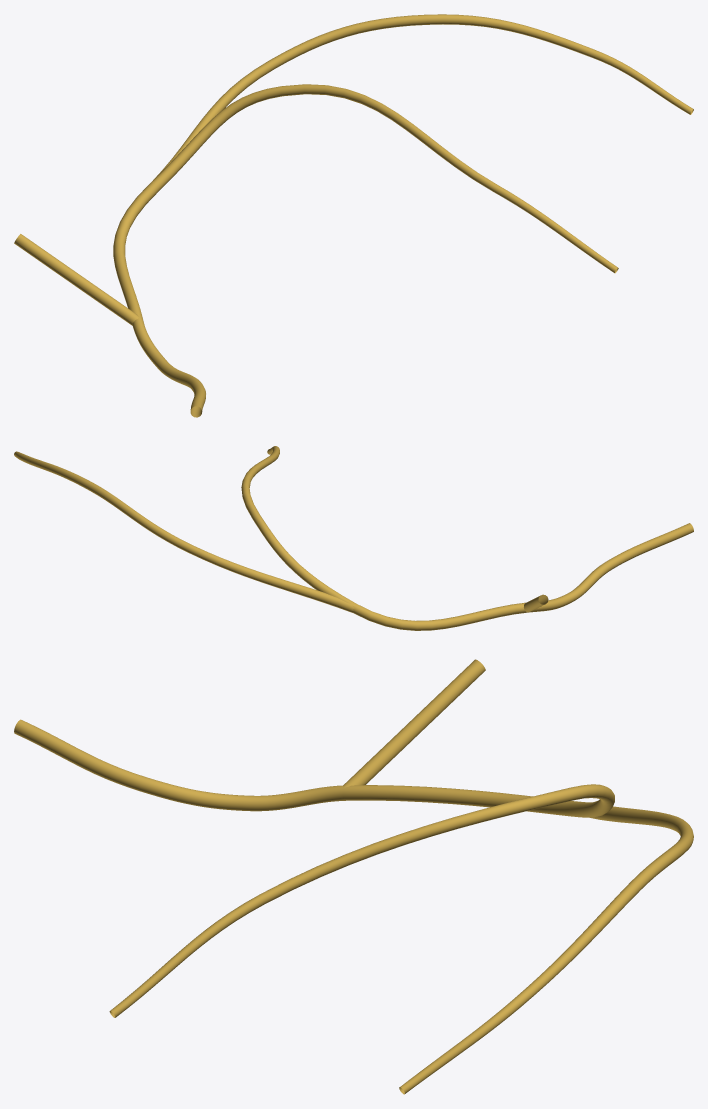
3 views of the same model, one above another, from view 1: azimuth 30°, elevation 25°; view 2: azimuth 150°, elevation 25°; view 3: azimuth 270°, elevation 25° (orthographic). The views are drawn at different scales.
Visible parts, largest first — view 1: 左侧臀上神经; view 2: 左侧臀上神经; view 3: 左侧臀上神经.
Boxes of the visible parts, bbox=[...] form: 左侧臀上神经: bbox=[14, 14, 693, 417]; 左侧臀上神经: bbox=[14, 446, 693, 630]; 左侧臀上神经: bbox=[14, 659, 693, 1094].
Bounding box in the file's own units: 0.1302 × 0.0282 × 0.0895.
